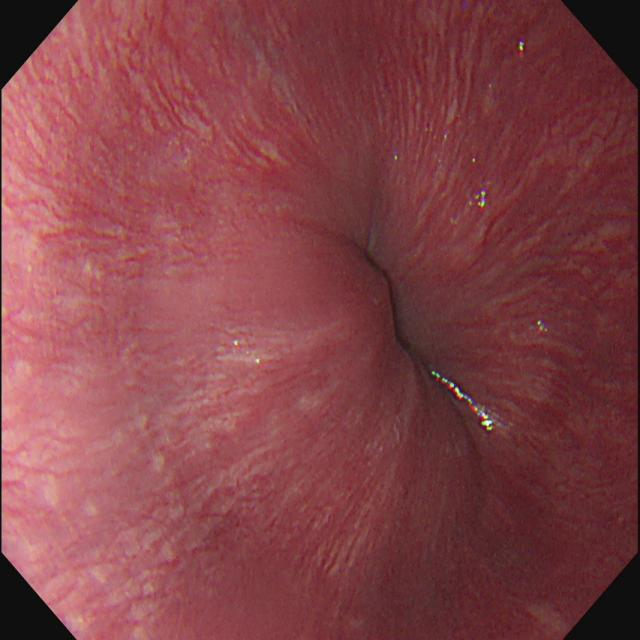I: (290, 177, 521, 497)
U: (431, 369, 496, 433), (468, 186, 490, 213)
